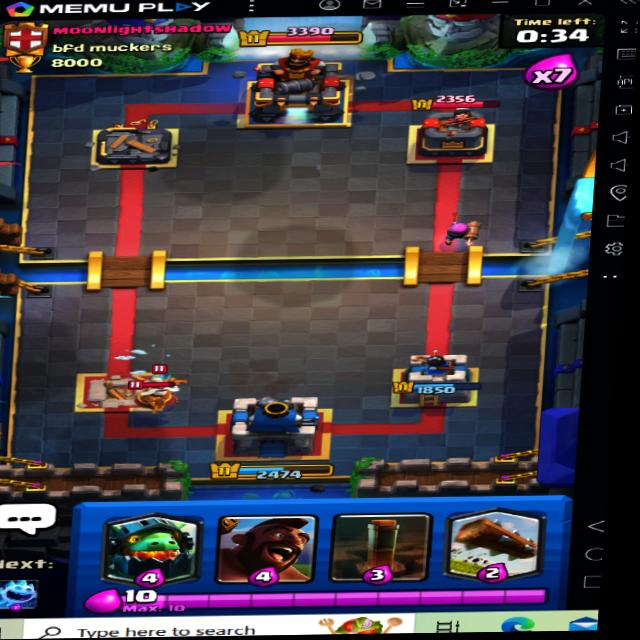ice-spirit: (133, 367, 180, 383)
monk: (119, 374, 197, 415)
